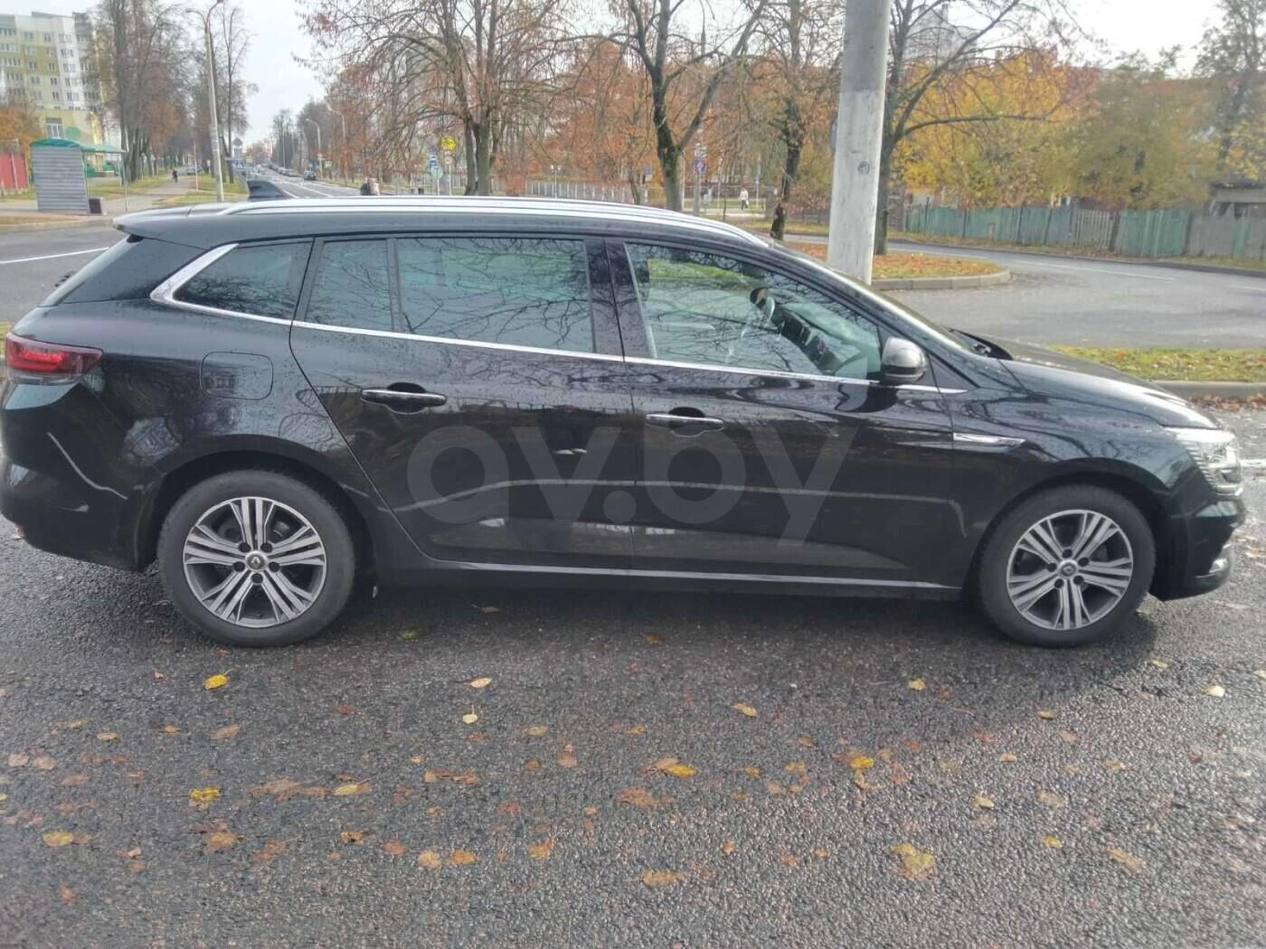Megane_2020: (0, 186, 1248, 691)
